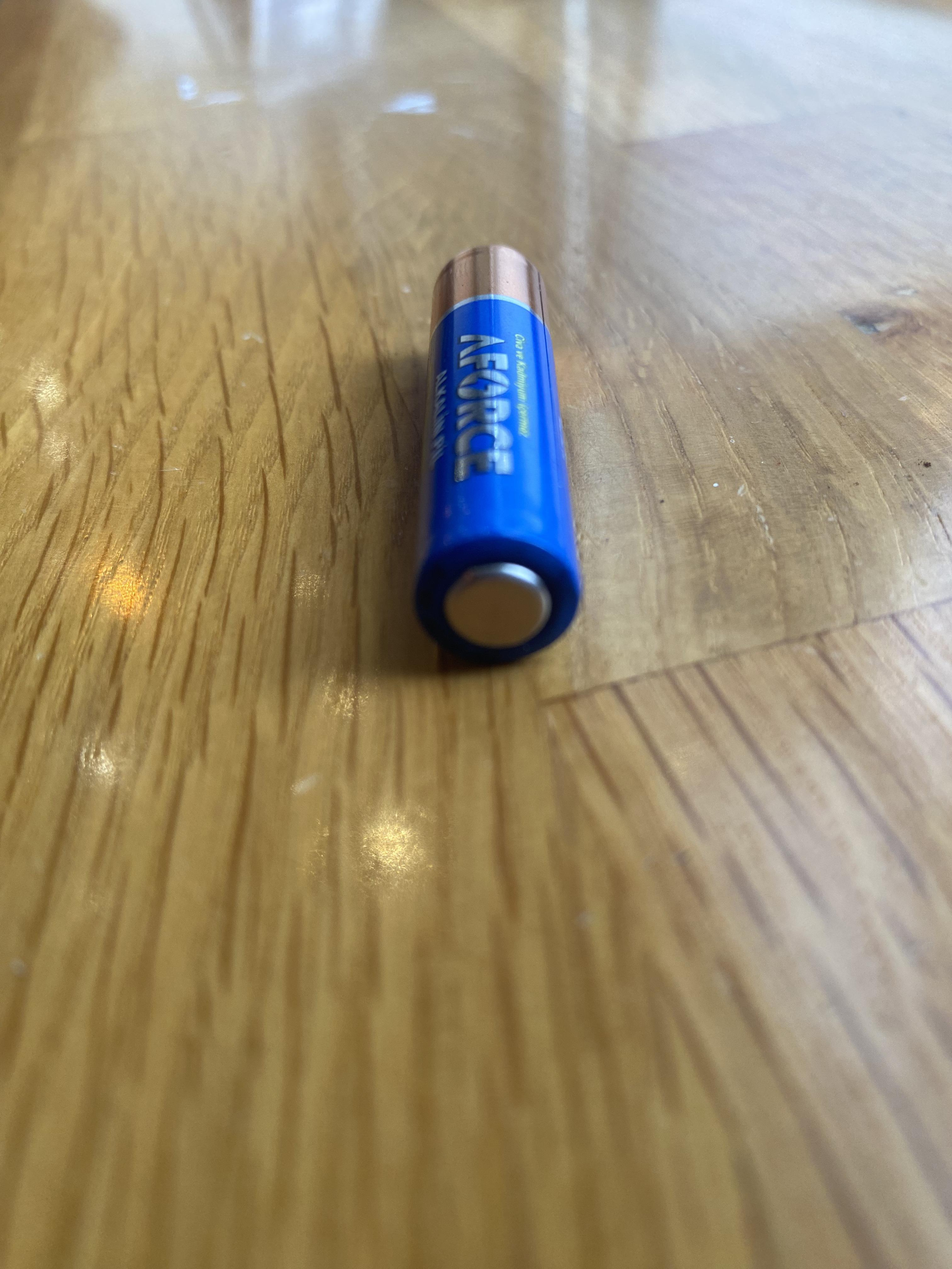AAA: (409, 238, 589, 678)
